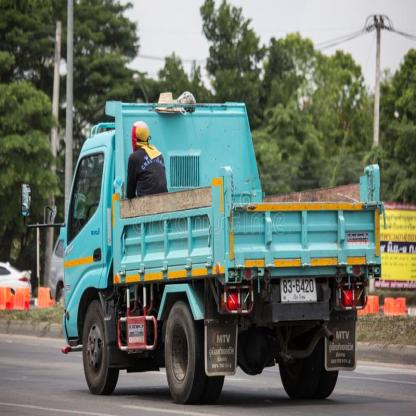dump_truck: (37, 77, 388, 410)
